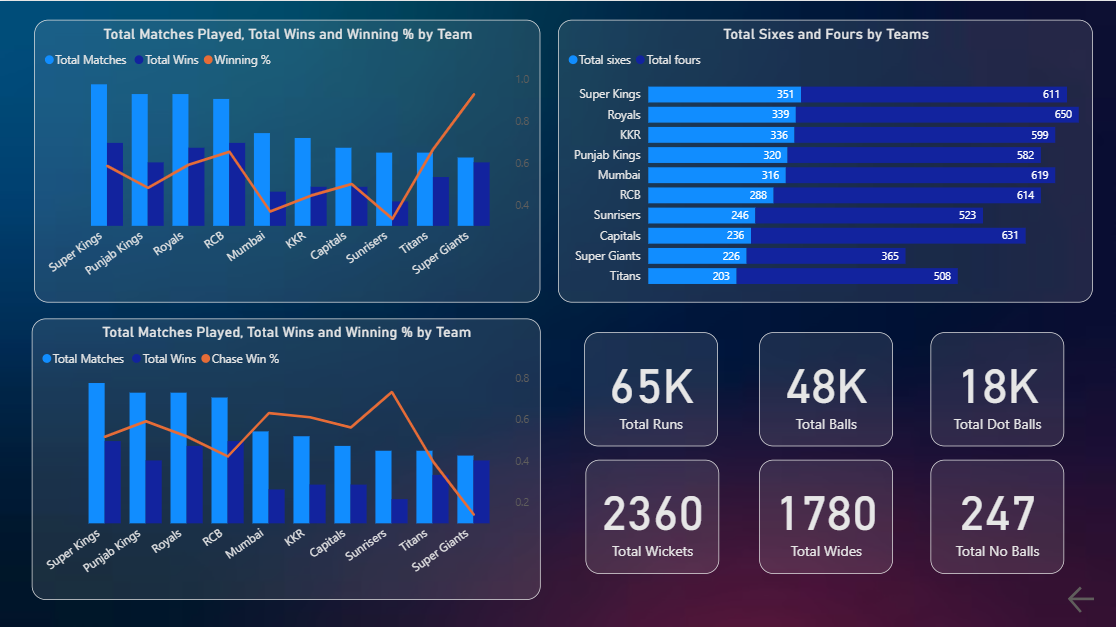

The page's visual inventory and layout, read from the dashboard file:
{"tool":"powerbi","page":{"name":"Total","canvas":[1280,720],"ordinal":2},"visuals":[{"type":"lineClusteredColumnComboChart","title":"Total Matches Played, Total Wins and Winning % by Team","fields":{"Category":["dim_match_summary.team1"],"Y":["dim_match_summary.Total Matches Played","dim_match_summary.Total Wins"],"Y2":["dim_match_summary.Winning %"]},"box":[41.4,21.4,578.6,322.9],"z":0},{"type":"lineClusteredColumnComboChart","title":"Total Matches Played, Total Wins and Winning % by Team","fields":{"Category":["dim_match_summary.team1"],"Y":["dim_match_summary.Total Matches Played","dim_match_summary.Total Wins"],"Y2":["dim_match_summary.ChaseWinPercentage"]},"box":[38.6,362.9,581.4,321.4],"z":1000},{"type":"barChart","title":"Total Sixes and Fours by Teams","fields":{"Category":["fact_bating_summary.team"],"Y":["Sum(fact_bating_summary.sixes)","Sum(fact_bating_summary.fours)"]},"box":[640,21.4,611.4,322.9],"z":2000},{"type":"card","fields":{"Values":["Key_Measures.wickets"]},"box":[671.4,524.3,152.9,130],"z":3000},{"type":"card","fields":{"Values":["Key_Measures.Total Runs"]},"box":[670,378.6,152.9,130],"z":4000},{"type":"card","fields":{"Values":["Sum(fact_bating_summary.balls)"]},"box":[870,378.6,152.9,130],"z":5000},{"type":"card","fields":{"Values":["Sum(fact_bowling_summary.wides)"]},"box":[870,524.3,152.9,130],"z":6000},{"type":"card","fields":{"Values":["Sum(fact_bowling_summary.zeros)"]},"box":[1065.7,378.6,152.9,130],"z":7000},{"type":"card","fields":{"Values":["Sum(fact_bowling_summary.noBalls)"]},"box":[1065.7,524.3,152.9,130],"z":8000},{"type":"actionButton","box":[1218.6,664.3,55.7,40],"z":9000}]}

Visuals, with their boxes in screenshot pixels (x1, y1, x2, y2), scaled from the page's 1280x720 canvas onto the 1116x627 screenshot:
"Total Matches Played, Total Wins and Winning % by Team" lineClusteredColumnComboChart: rect(36, 19, 541, 300)
"Total Matches Played, Total Wins and Winning % by Team" lineClusteredColumnComboChart: rect(34, 316, 541, 596)
"Total Sixes and Fours by Teams" barChart: rect(558, 19, 1091, 300)
card - Key_Measures.wickets: rect(585, 457, 719, 570)
card - Key_Measures.Total Runs: rect(584, 330, 717, 443)
card - Sum(fact_bating_summary.balls): rect(759, 330, 892, 443)
card - Sum(fact_bowling_summary.wides): rect(759, 457, 892, 570)
card - Sum(fact_bowling_summary.zeros): rect(929, 330, 1062, 443)
card - Sum(fact_bowling_summary.noBalls): rect(929, 457, 1062, 570)
actionButton: rect(1062, 578, 1111, 613)
